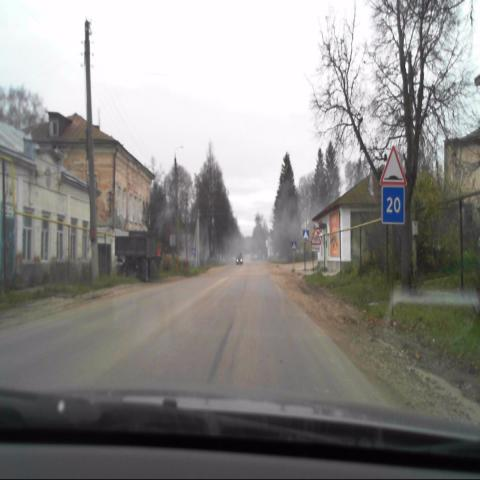1_17: (380, 144, 408, 184)
6_2: (382, 184, 404, 224)
